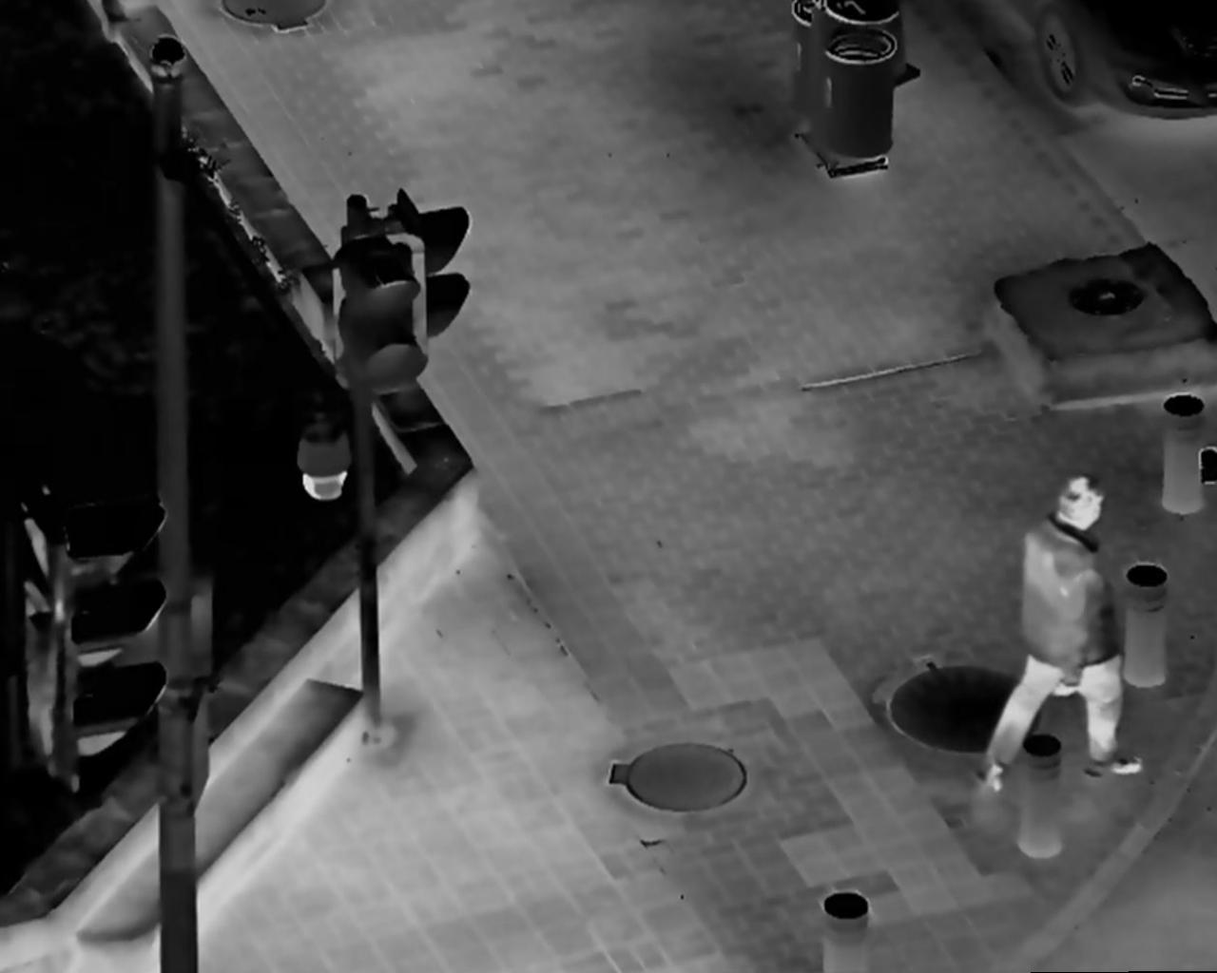person: (967, 474, 1154, 801)
